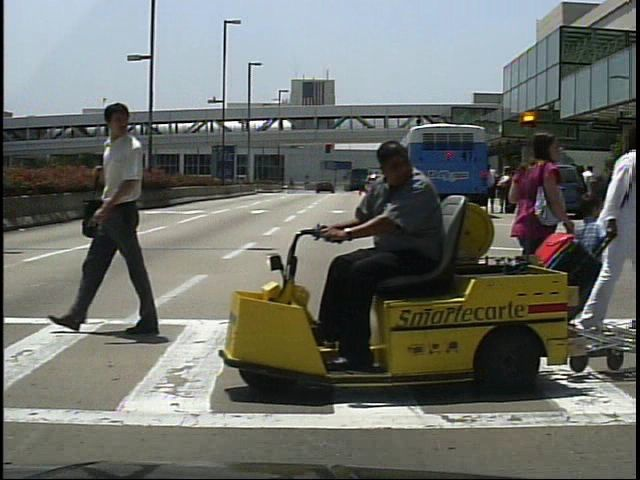person: (308, 137, 459, 373), (86, 100, 158, 337), (504, 124, 572, 355), (581, 118, 638, 344), (571, 185, 612, 326), (580, 162, 601, 216), (500, 165, 520, 218), (482, 162, 501, 212)
